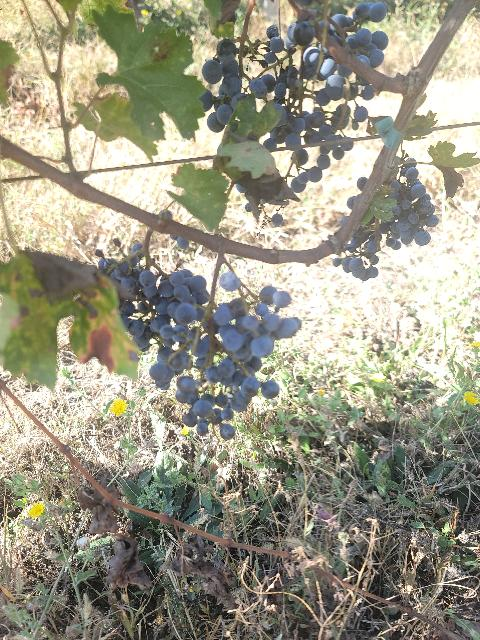grapes: (261, 2, 389, 191), (162, 286, 301, 440), (96, 239, 204, 390), (344, 158, 439, 279), (199, 39, 246, 132)
